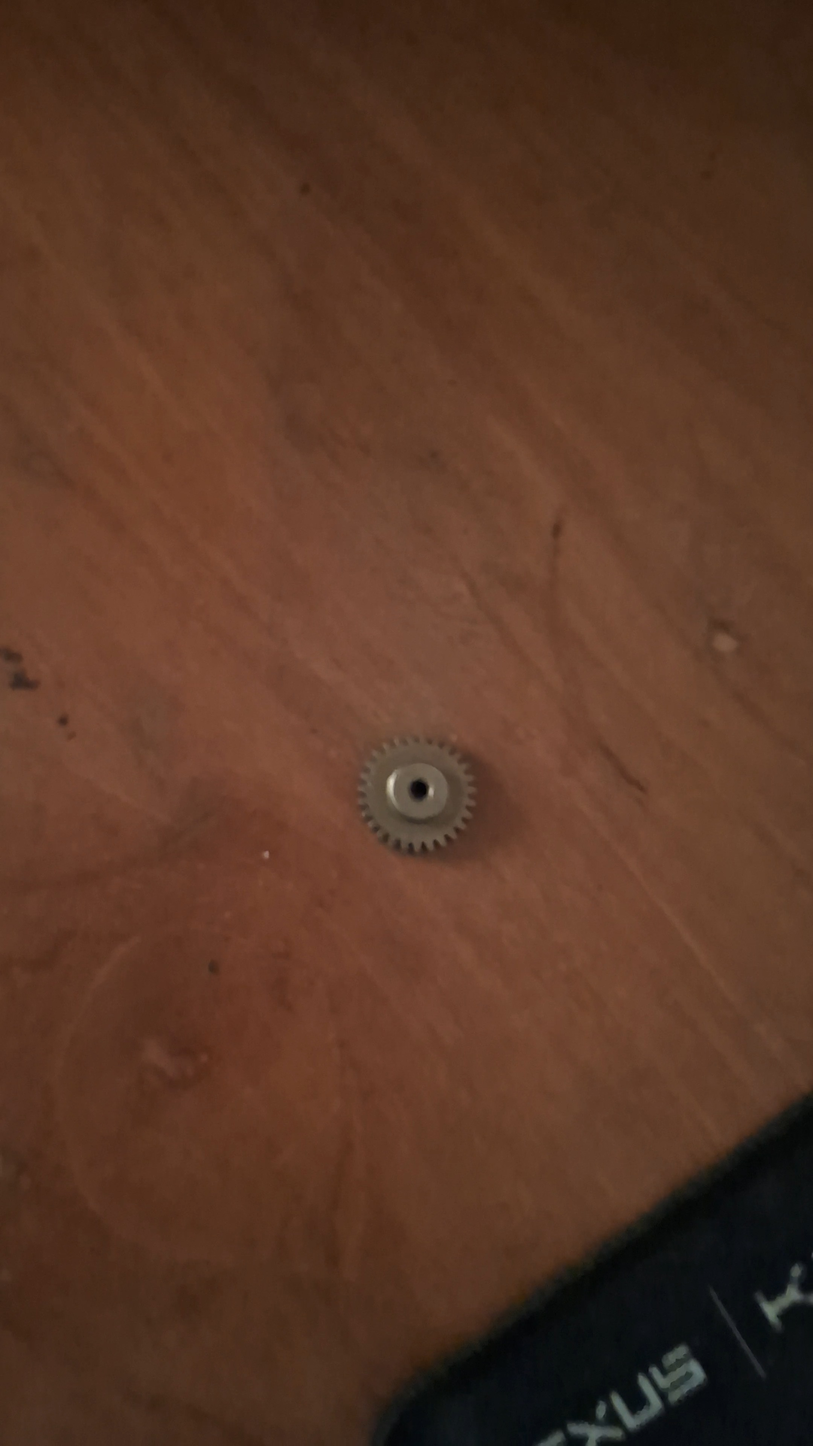spur gear: (359, 738, 475, 853)
